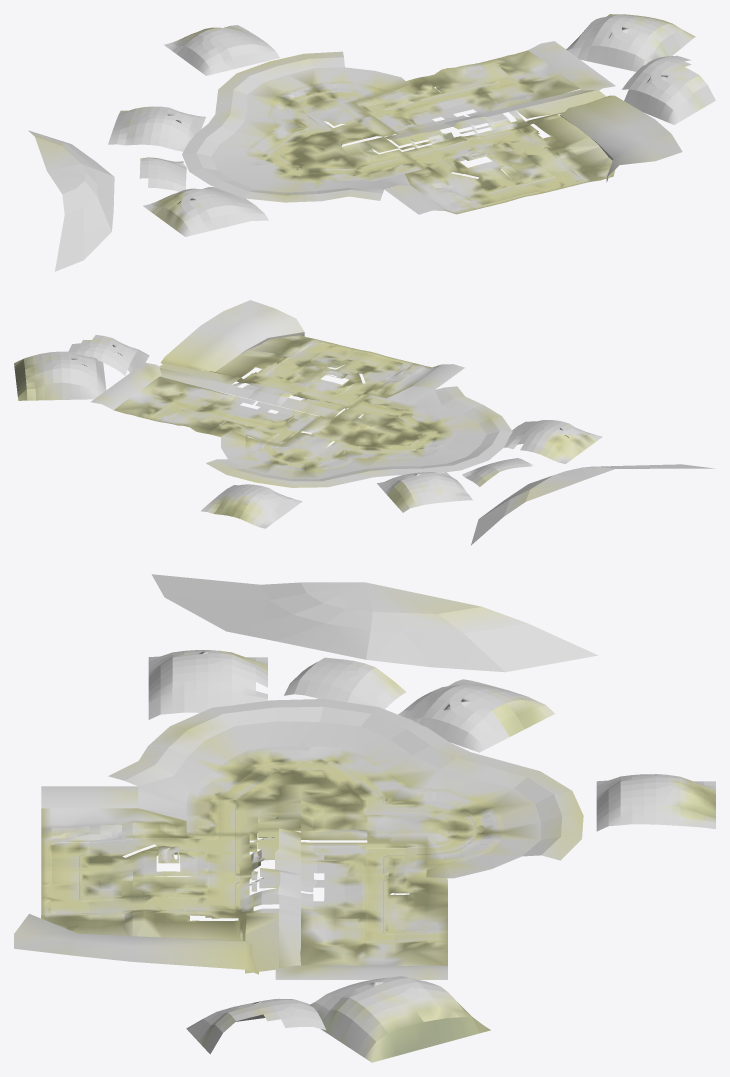
File: Level1_Ground.fbx
3 renders of one model, top to bottom at view 1: azimuth 30°, elevation 25°; view 2: azimuth 150°, elevation 25°; view 3: azimuth 270°, elevation 25°, orthographic. The views are drawn at different scales.
Visible parts, largest first — view 1: common_gens76Shape_003; view 2: common_gens76Shape_003; view 3: common_gens76Shape_003.
Part boxes in pixels (<box>): common_gens76Shape_003: <box>28,14,715,271</box>; common_gens76Shape_003: <box>14,300,714,545</box>; common_gens76Shape_003: <box>14,574,715,1062</box>.
Size of the model in its own units: 86366 by 5068 by 52153.
